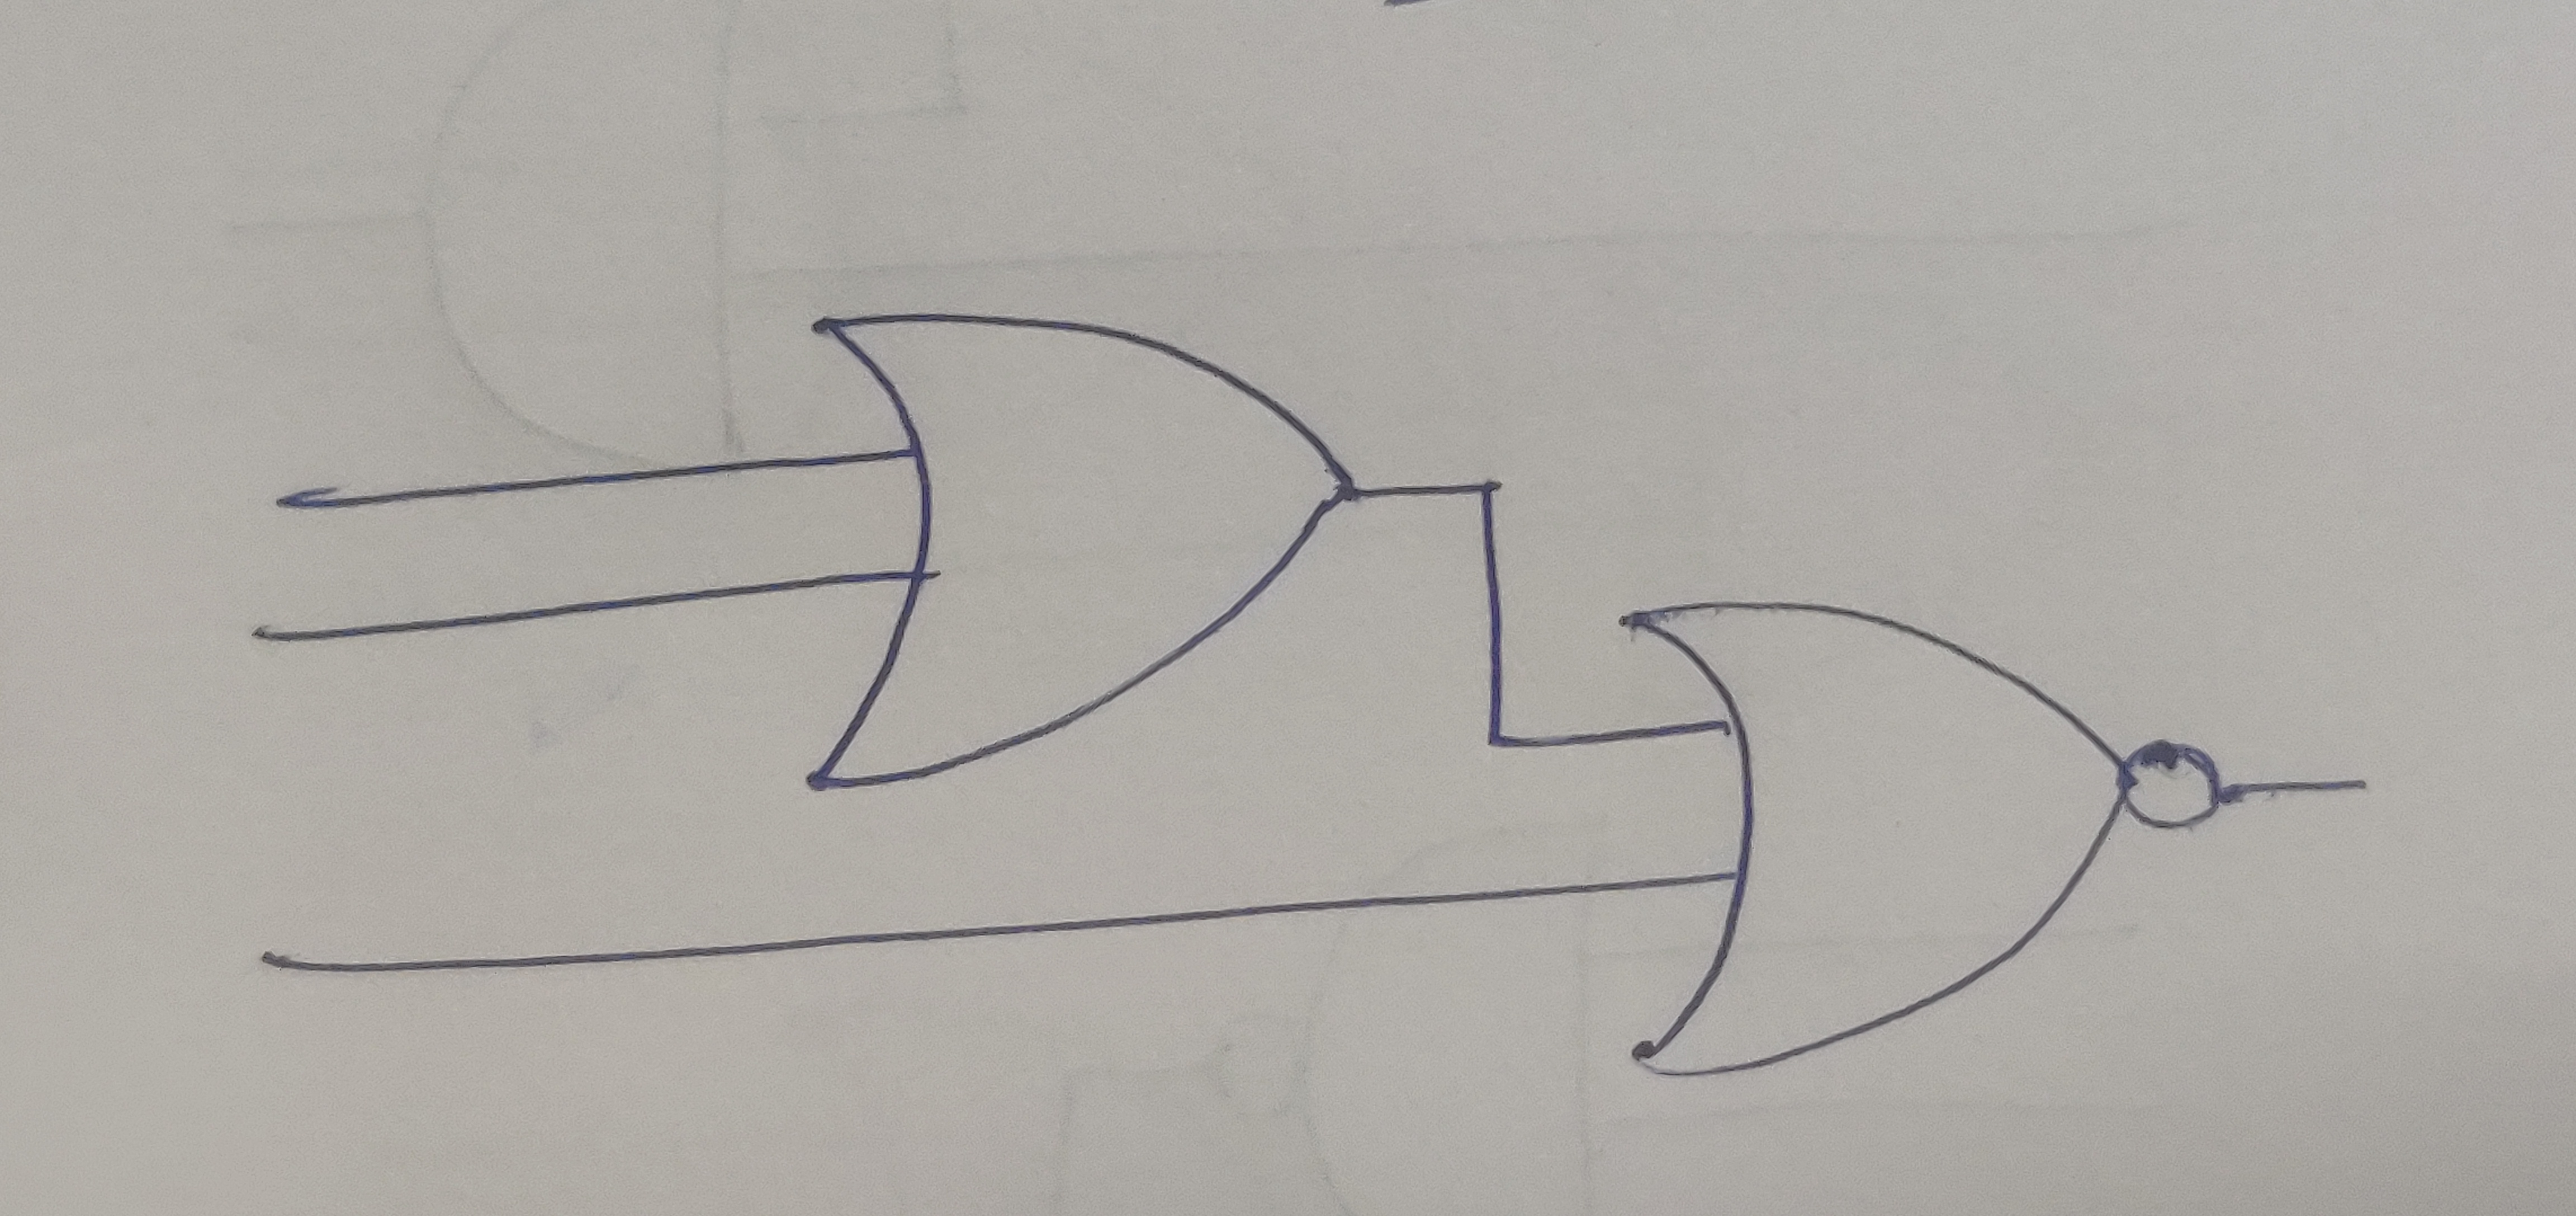not: (2119, 733, 2228, 835)
or: (795, 312, 1357, 799), (1607, 598, 2136, 1078)
